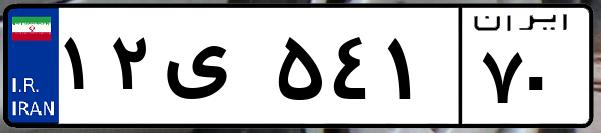0: (525, 38, 570, 115)
1: (385, 28, 445, 110), (57, 26, 110, 100)
2: (110, 28, 158, 98)
4: (330, 28, 385, 110)
5: (270, 28, 330, 110)
7: (475, 38, 525, 113)
ی: (158, 20, 270, 120)
